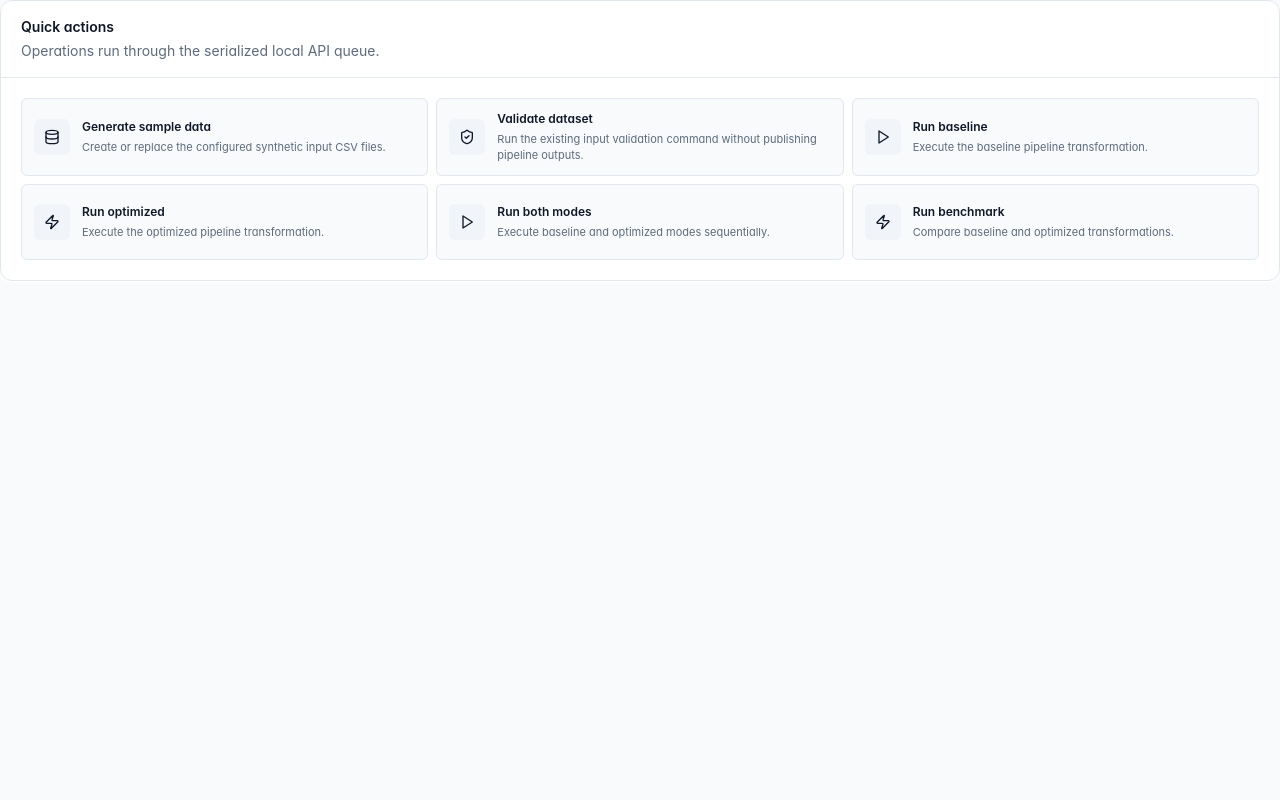
Test case: QuickActions › does not submit when the confirmation dialog is cancelled
The image size is (1280, 800).
Later steps or results of the test are not shown.
Click the button "Generate sample data" at (225, 137), box [21,98,428,176]
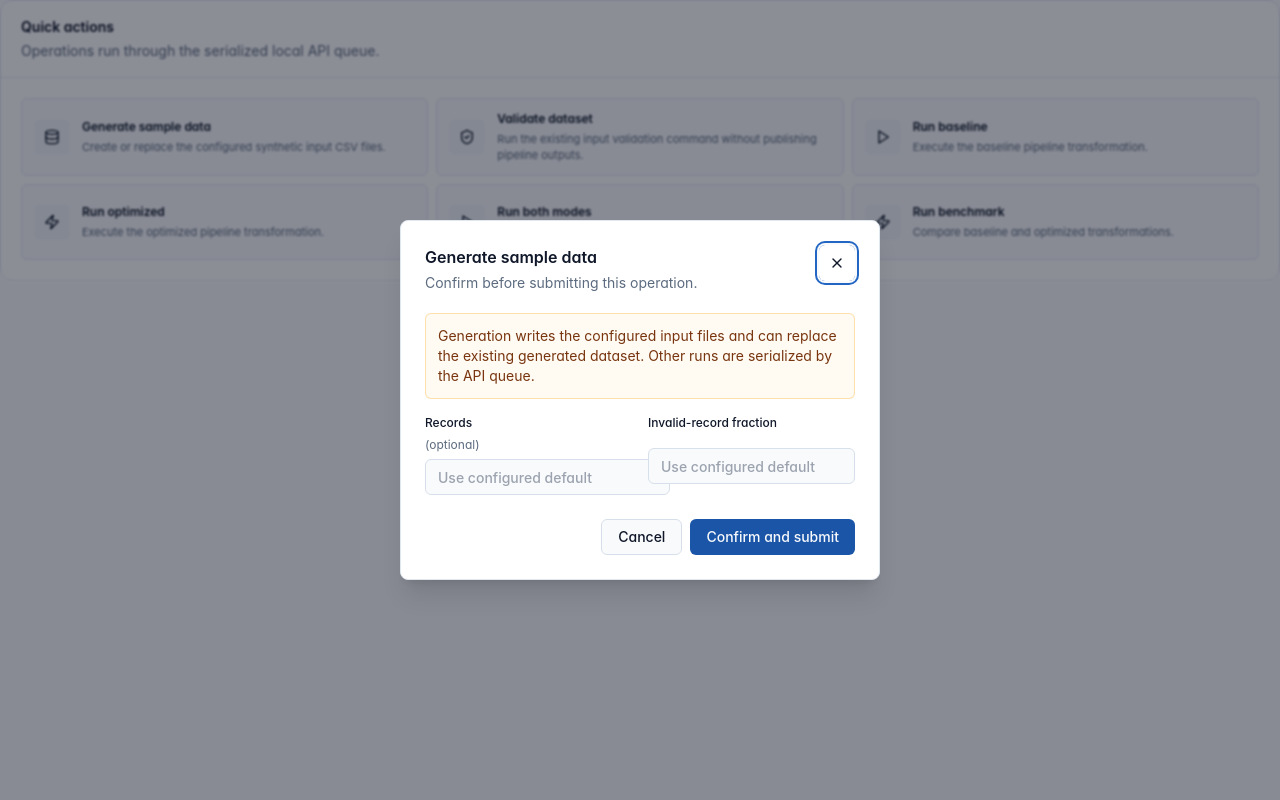
Expected: the text "can replace the existing generated dataset" is shown, [438,327,837,384]
